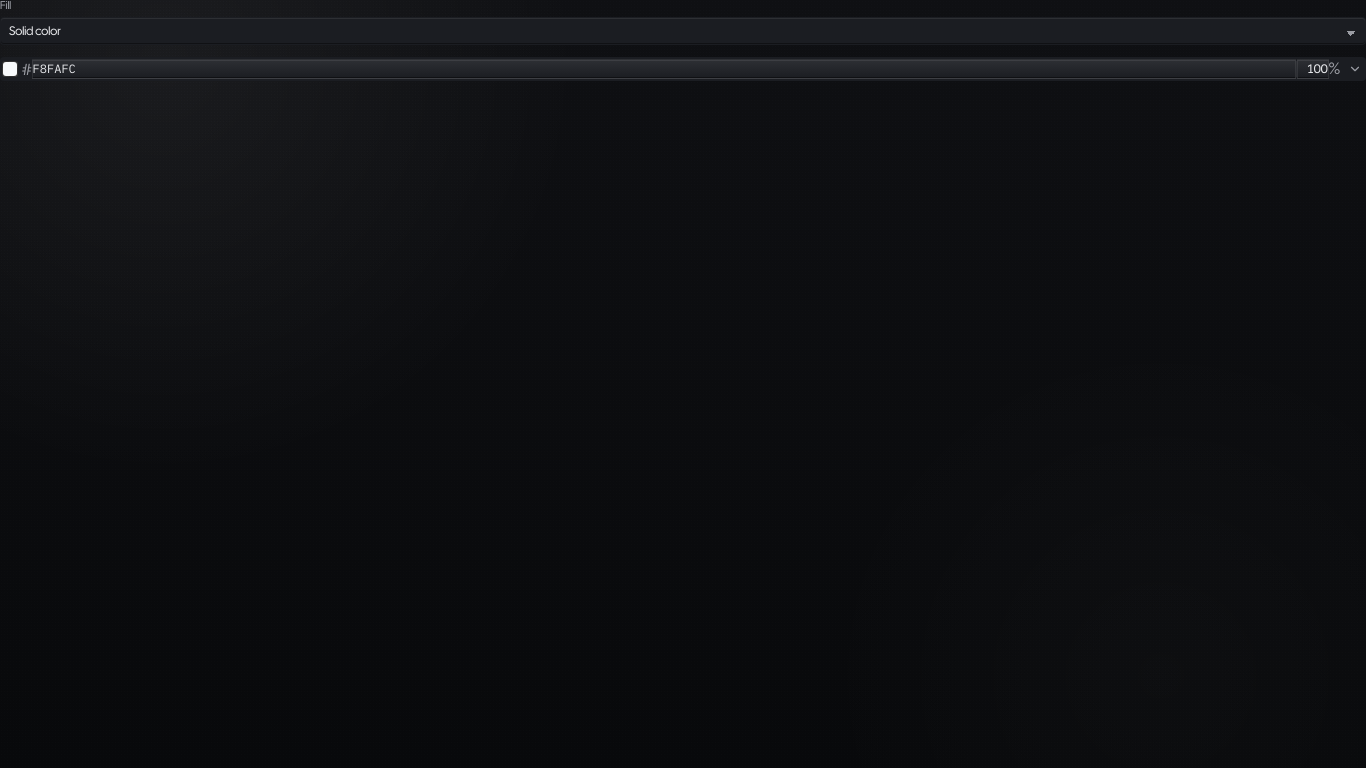
Test case: FillEditor › keeps the floating panel open across the kind switch, editing the gradient inside
The width and height of the screenshot is (1366, 768).
Click the button named "Choose Color color" at (10, 69), box x1=2 y1=61 x2=18 y2=77
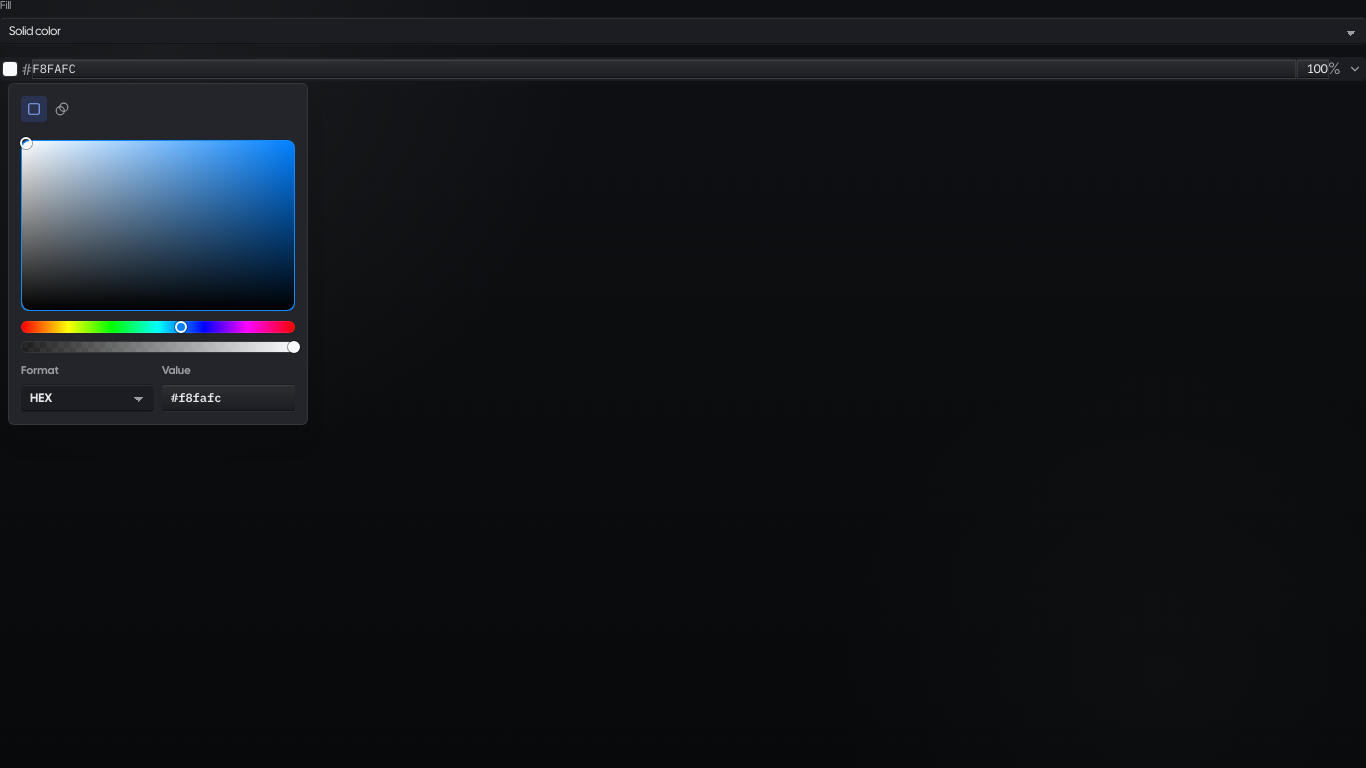
Click the button named "Color fill type: Linear gradient" at (62, 109), box x1=49 y1=96 x2=75 y2=122
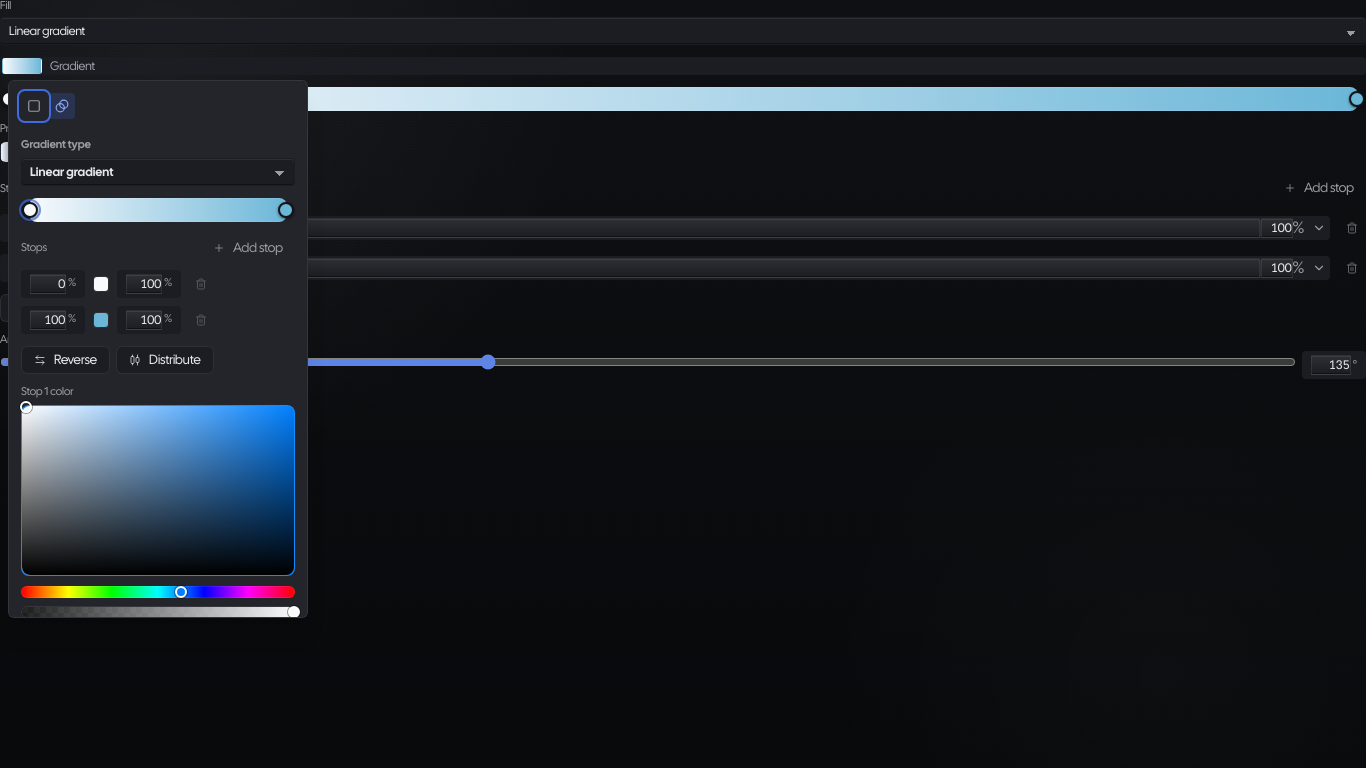
expect the dialog named "Color picker" is shown: met, box x1=8 y1=80 x2=308 y2=618
expect the dropdown named "Color gradient type" is shown: met, box x1=21 y1=158 x2=295 y2=186
expect the slider named "Stop 1" is shown: met, box x1=22 y1=202 x2=38 y2=218
